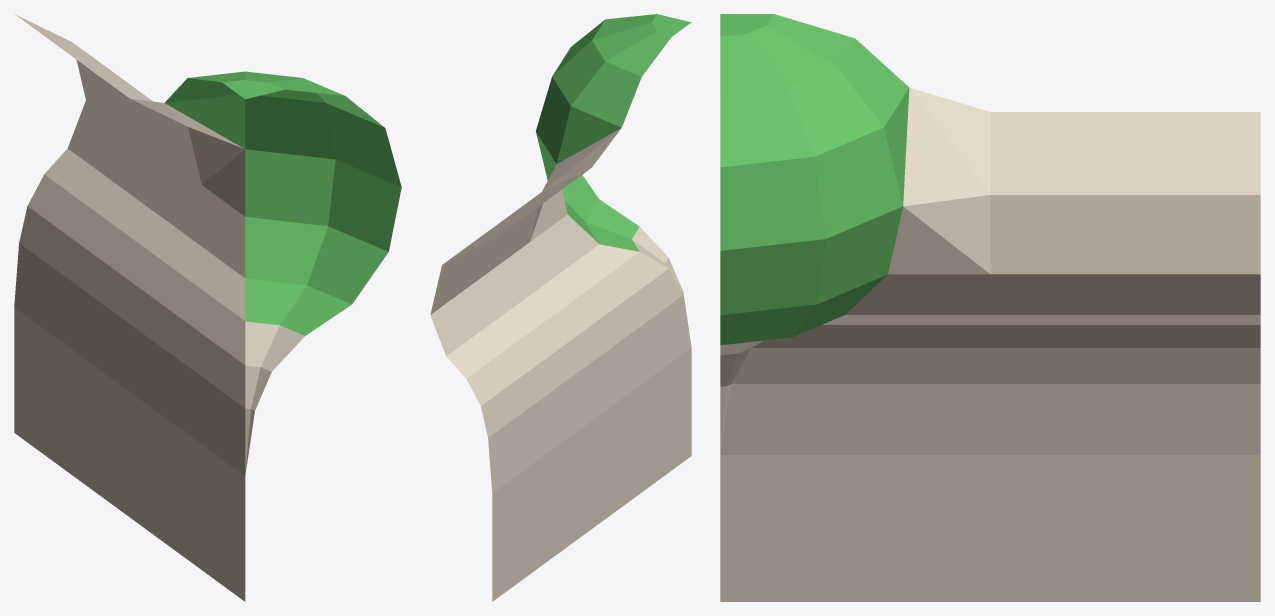
The model's file is Escarpment_Terrain_Side_Falloff_Edge.glb.
The picture shows the model from 3 angles, left to right: view 1: azimuth 30°, elevation 25°; view 2: azimuth 150°, elevation 25°; view 3: azimuth 270°, elevation 25°; orthographic projection. The views are drawn at different scales.
Visible parts, largest first — view 1: Escarpment_Terrain_Side_Falloff_Edge; view 2: Escarpment_Terrain_Side_Falloff_Edge; view 3: Escarpment_Terrain_Side_Falloff_Edge.
Part boxes in pixels (x1,y1,x2,y2): Escarpment_Terrain_Side_Falloff_Edge: [14, 14, 401, 601]; Escarpment_Terrain_Side_Falloff_Edge: [430, 14, 691, 601]; Escarpment_Terrain_Side_Falloff_Edge: [720, 14, 1260, 601].
Size of the model in its own units: 0.2072 by 0.636 by 0.53.
